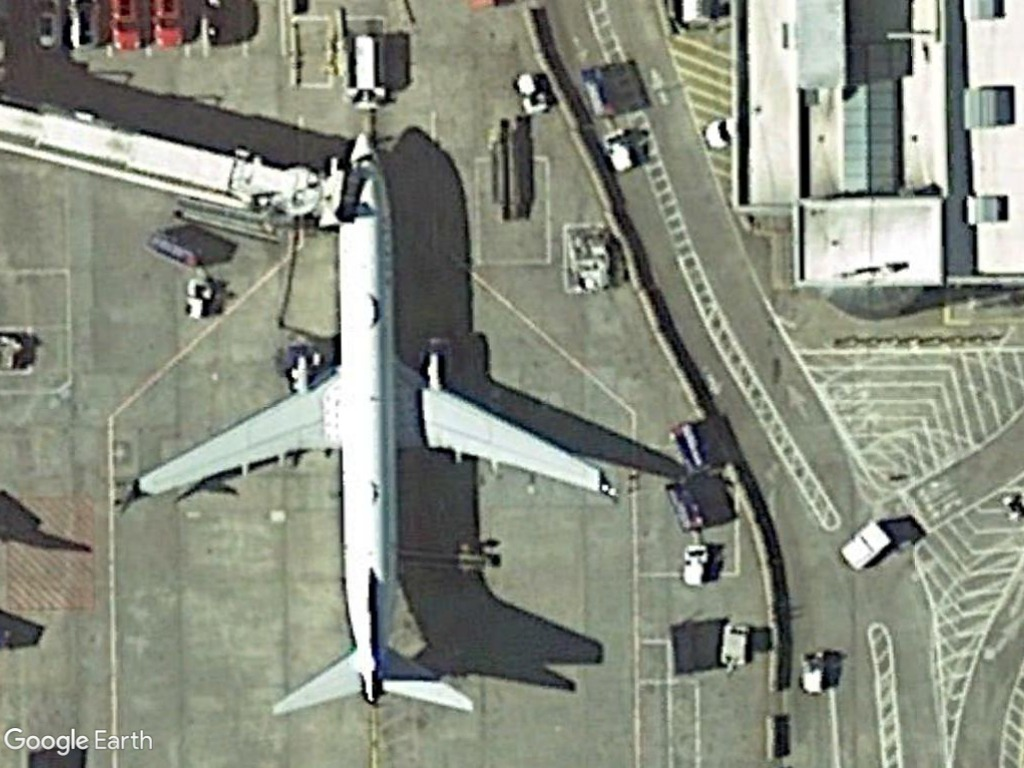airliner: (96, 136, 618, 728)
